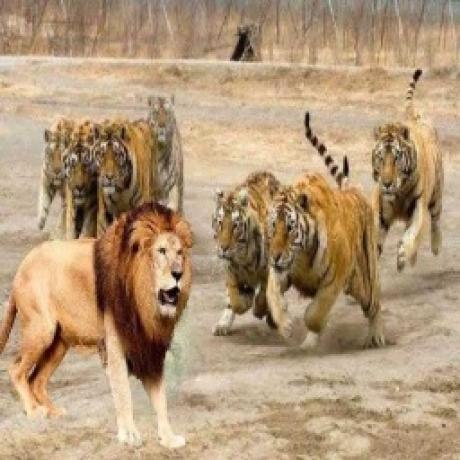Lion: (0, 199, 198, 452)
